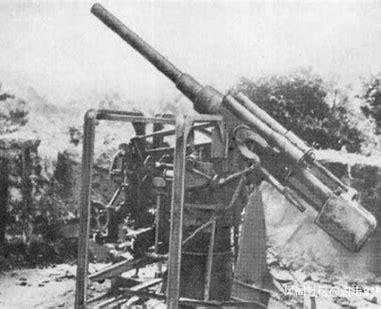MIL_SPG: (75, 4, 377, 308)
